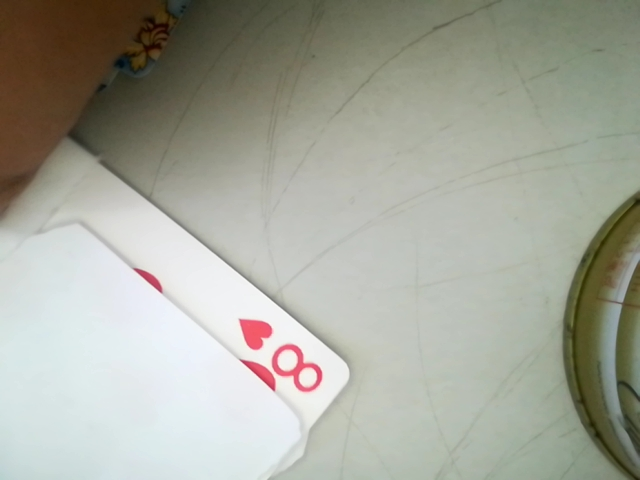hx 8: (221, 311, 333, 409)
